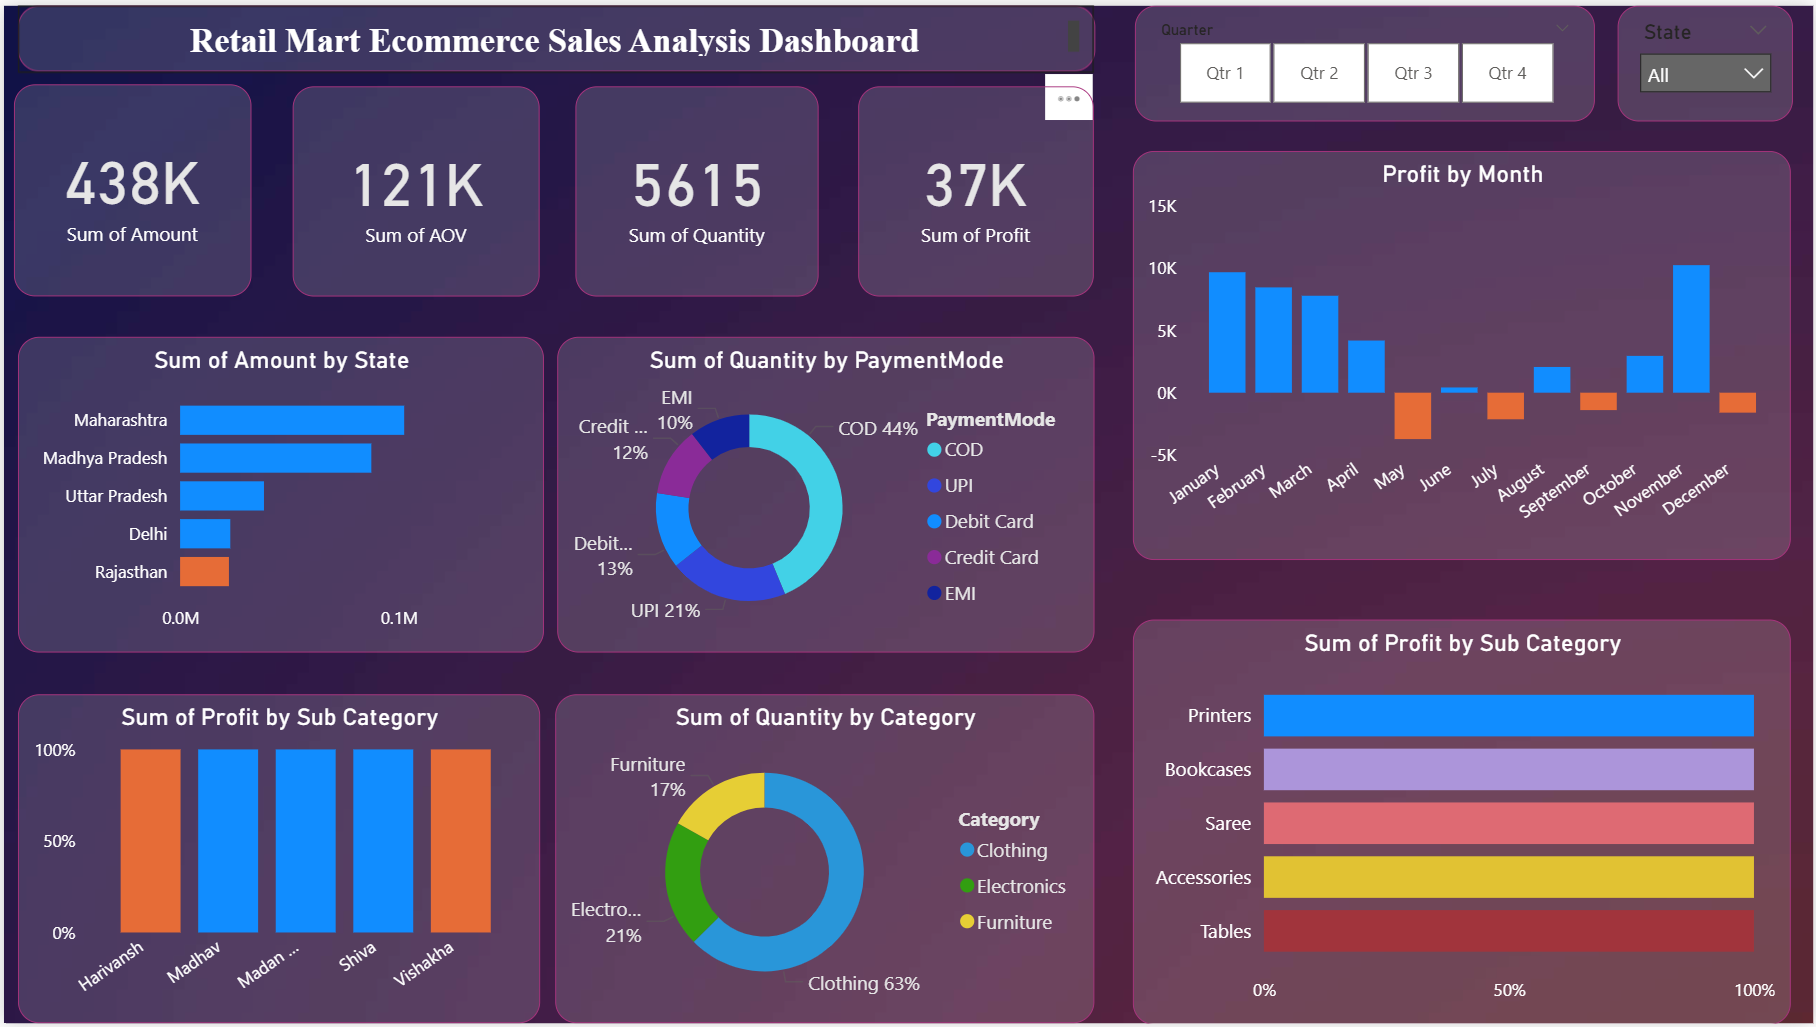

The page's visual inventory and layout, read from the dashboard file:
{"tool":"powerbi","page":{"name":"Page 1","canvas":[1280,720],"ordinal":0},"visuals":[{"type":"textbox","box":[9.6,0,761.8,46.8],"z":0},{"type":"columnChart","title":" Profit by Month","fields":{"Y":["Sum(Details.Profit)"],"Category":["Orders.Order Date.Variation.Date Hierarchy.Month"]},"box":[799,103.3,465.6,289.3],"z":1000},{"type":"hundredPercentStackedBarChart","title":"Sum of  Profit by Sub Category","fields":{"Category":["Details.Sub-Category"],"Y":["Sum(Details.Profit)"]},"box":[799,433.9,465.6,286.5],"z":2000},{"type":"donutChart","fields":{"Category":["Details.Category"],"Y":["Sum(Details.Quantity)"]},"box":[389.9,487.7,381.6,232.8],"z":3000},{"type":"donutChart","fields":{"Y":["Sum(Details.Quantity)"],"Category":["Details.PaymentMode"]},"box":[391.2,234.2,380.2,223.2],"z":4000},{"type":"card","fields":{"Values":["Sum(Details.Amount)"]},"box":[7.6,56,168.1,149.9],"z":5000},{"type":"card","fields":{"Values":["Sum(Details.AOV)"]},"box":[203.9,56.5,175,148.8],"z":6000},{"type":"card","fields":{"Values":["Sum(Details.Quantity)"]},"box":[403.6,56.5,172.2,148.8],"z":7000},{"type":"card","fields":{"Values":["Sum(Details.Profit)"]},"box":[604.8,56.5,166.7,148.8],"z":8000},{"type":"hundredPercentStackedColumnChart","title":"Sum of  Profit by Sub Category","fields":{"Y":["Sum(Details.Amount)"],"Category":["Orders.CustomerName"]},"box":[9.6,487.7,369.2,232.8],"z":9000},{"type":"barChart","fields":{"Category":["Orders.State"],"Y":["Sum(Details.Amount)"]},"box":[9.6,234.2,371.9,223.2],"z":10000},{"type":"slicer","fields":{"Values":["Orders.State"]},"box":[1141.7,0,124.2,81.8],"z":11000},{"type":"slicer","fields":{"Values":["Orders.Order Date.Variation.Date Hierarchy.Quarter"]},"box":[799.5,0,325.6,81.8],"z":12000}]}

Visuals, with their boxes in screenshot pixels (x1, y1, x2, y2), scaled from the page's 1280x720 canvas onto the 1816x1027 screenshot:
textbox: {"left": 14, "top": 0, "right": 1094, "bottom": 67}
" Profit by Month" columnChart: {"left": 1134, "top": 147, "right": 1794, "bottom": 560}
"Sum of  Profit by Sub Category" hundredPercentStackedBarChart: {"left": 1134, "top": 619, "right": 1794, "bottom": 1026}
donutChart - Details.Category x Sum(Details.Quantity): {"left": 553, "top": 696, "right": 1095, "bottom": 1026}
donutChart - Sum(Details.Quantity) x Details.PaymentMode: {"left": 555, "top": 334, "right": 1094, "bottom": 652}
card - Sum(Details.Amount): {"left": 11, "top": 80, "right": 249, "bottom": 294}
card - Sum(Details.AOV): {"left": 289, "top": 81, "right": 538, "bottom": 293}
card - Sum(Details.Quantity): {"left": 573, "top": 81, "right": 817, "bottom": 293}
card - Sum(Details.Profit): {"left": 858, "top": 81, "right": 1095, "bottom": 293}
"Sum of  Profit by Sub Category" hundredPercentStackedColumnChart: {"left": 14, "top": 696, "right": 537, "bottom": 1026}
barChart - Orders.State x Sum(Details.Amount): {"left": 14, "top": 334, "right": 541, "bottom": 652}
slicer - Orders.State: {"left": 1620, "top": 0, "right": 1796, "bottom": 117}
slicer - Orders.Order Date.Variation.Date Hierarchy.Quarter: {"left": 1134, "top": 0, "right": 1596, "bottom": 117}
